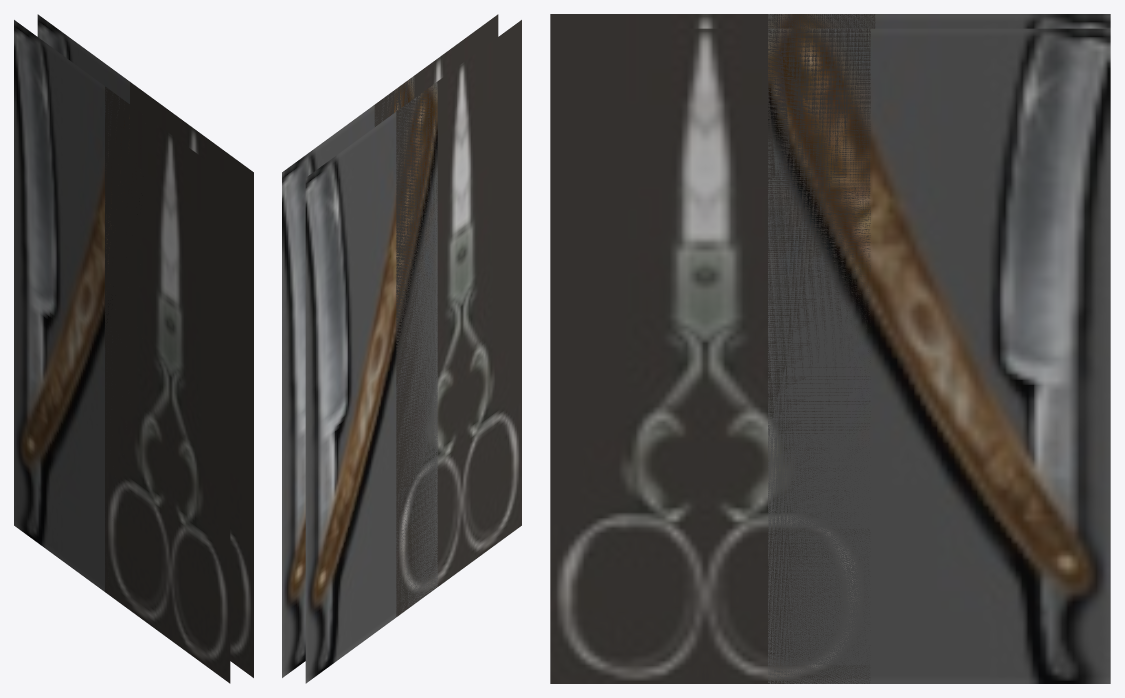
Rendered from sign1_shanty_a_icon_barber.fbx.
3 renders of one model, left to right at view 1: azimuth 30°, elevation 25°; view 2: azimuth 150°, elevation 25°; view 3: azimuth 270°, elevation 25°, orthographic. The views are drawn at different scales.
Parts seen in each view (by area): view 1: icon_scissors, icon_razor; view 2: icon_razor, icon_scissors; view 3: icon_razor, icon_scissors.
Boxes of the visible parts, x1,y1,x2,y2 form: icon_scissors: (105,82,253,683); icon_razor: (14,14,142,591); icon_razor: (282,76,437,683); icon_scissors: (374,14,521,616); icon_razor: (768,14,1110,683); icon_scissors: (550,14,875,683).
Bounding box in the file's own units: 16.67 × 345 × 267.
1 material, 1 textured.
